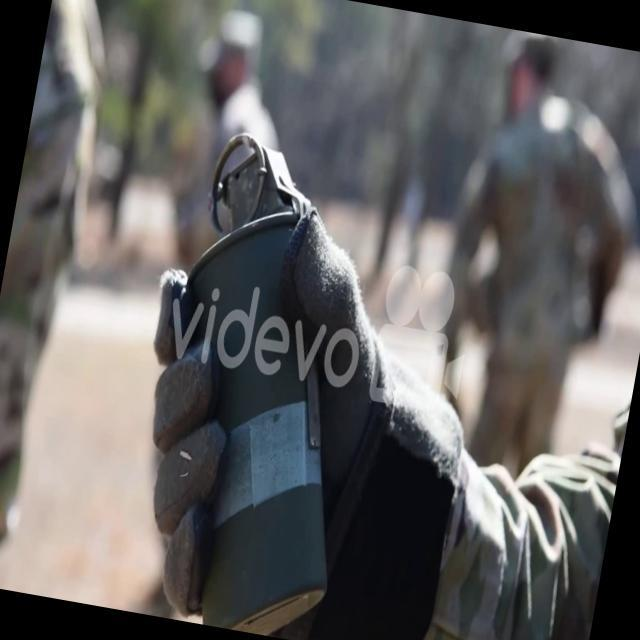grenade: (122, 116, 404, 640)
